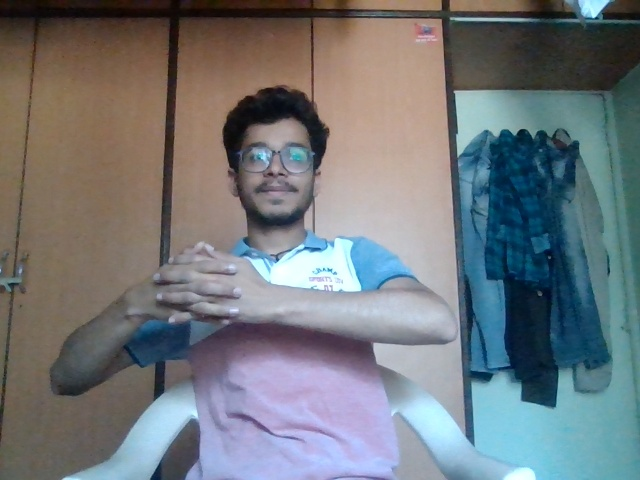good: (150, 221, 267, 337)
